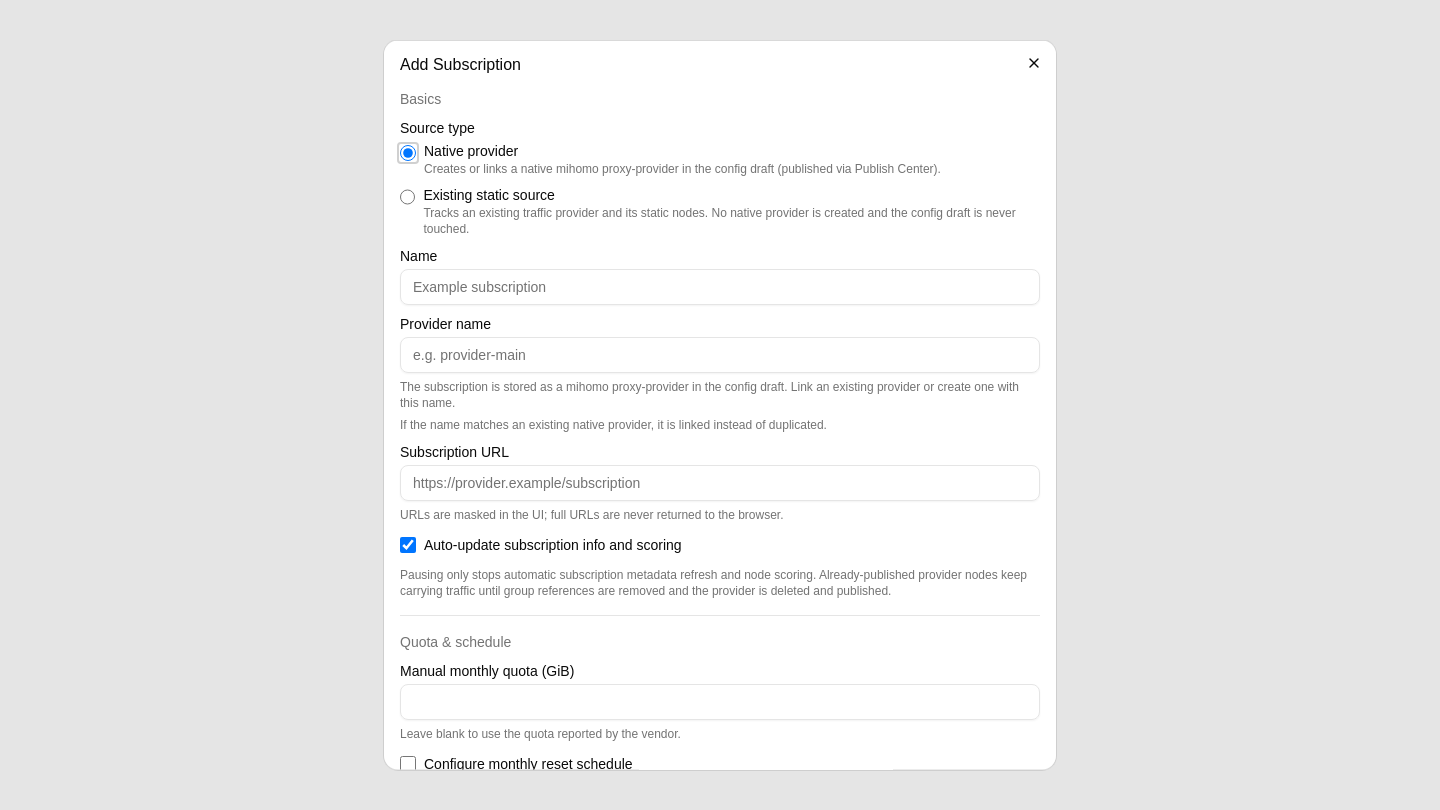
Test: SubscriptionForm · traffic source › requires a traffic provider selection for a traffic source
The width and height of the screenshot is (1440, 810).
Type "Legacy Source" into the field labelled "Name" at (720, 286), box top-left (400, 268), bottom-right (1040, 304)
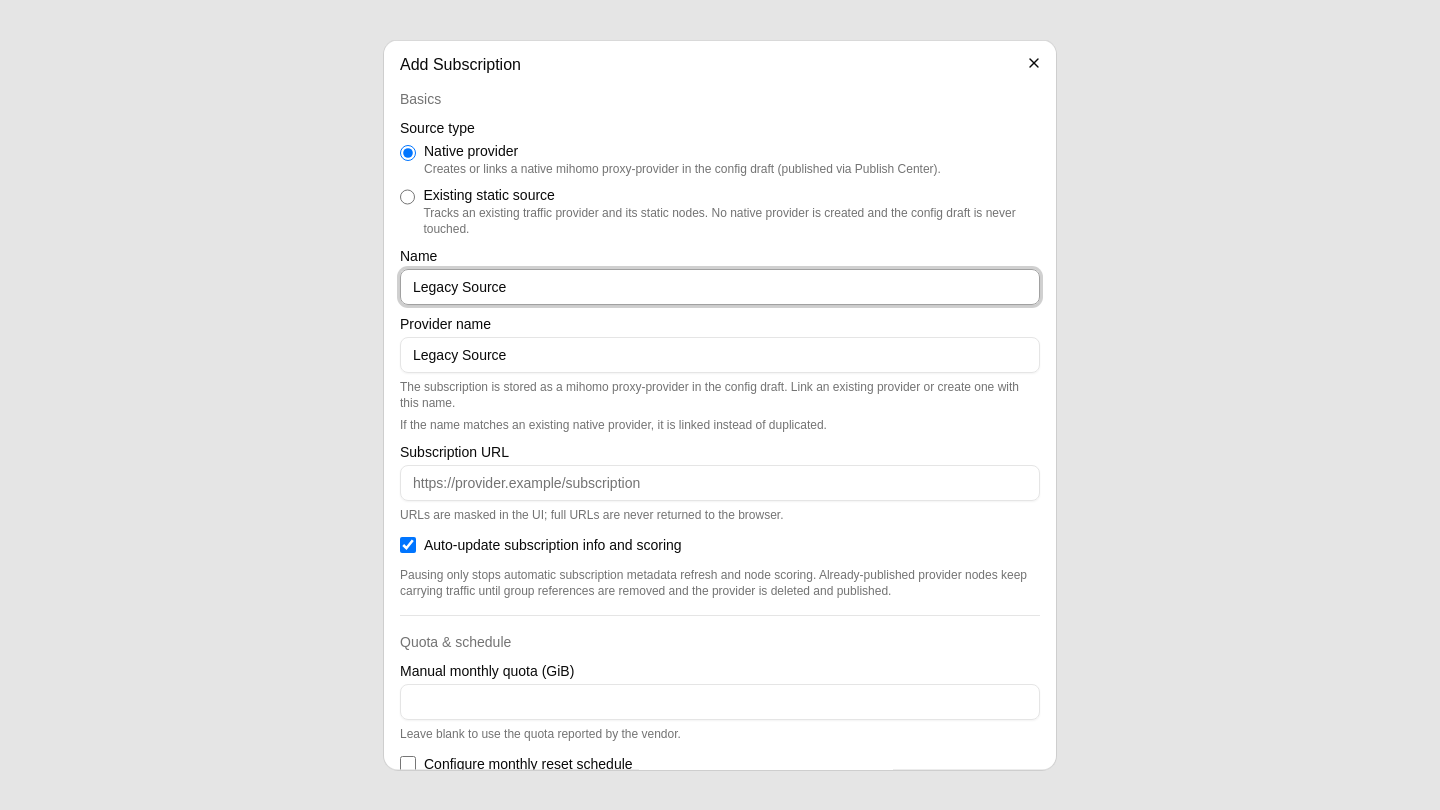
Click the radio button labelled "Existing static source" at (408, 196), box top-left (400, 188), bottom-right (415, 204)
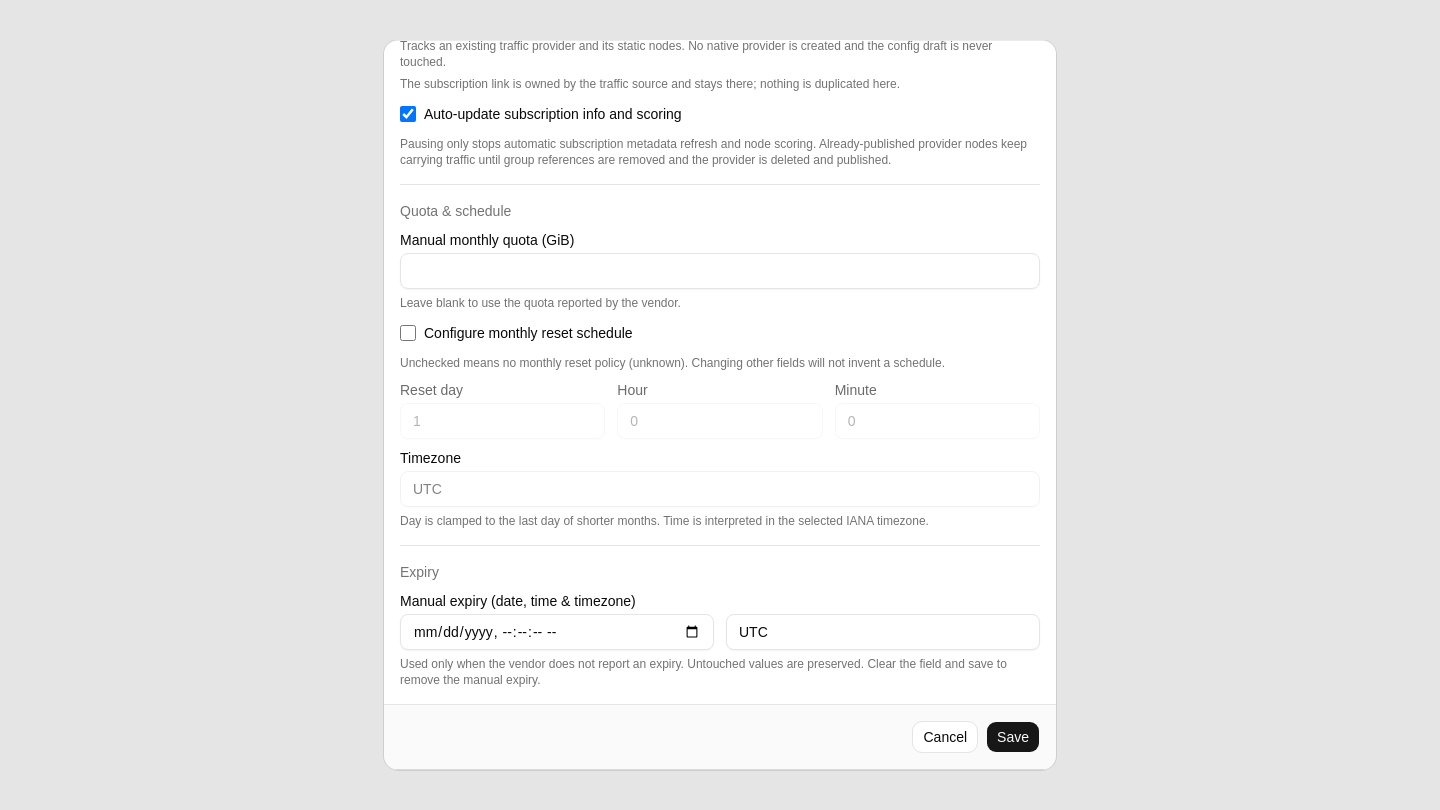
Click the button "Save" at (1013, 738), box top-left (986, 722), bottom-right (1040, 754)
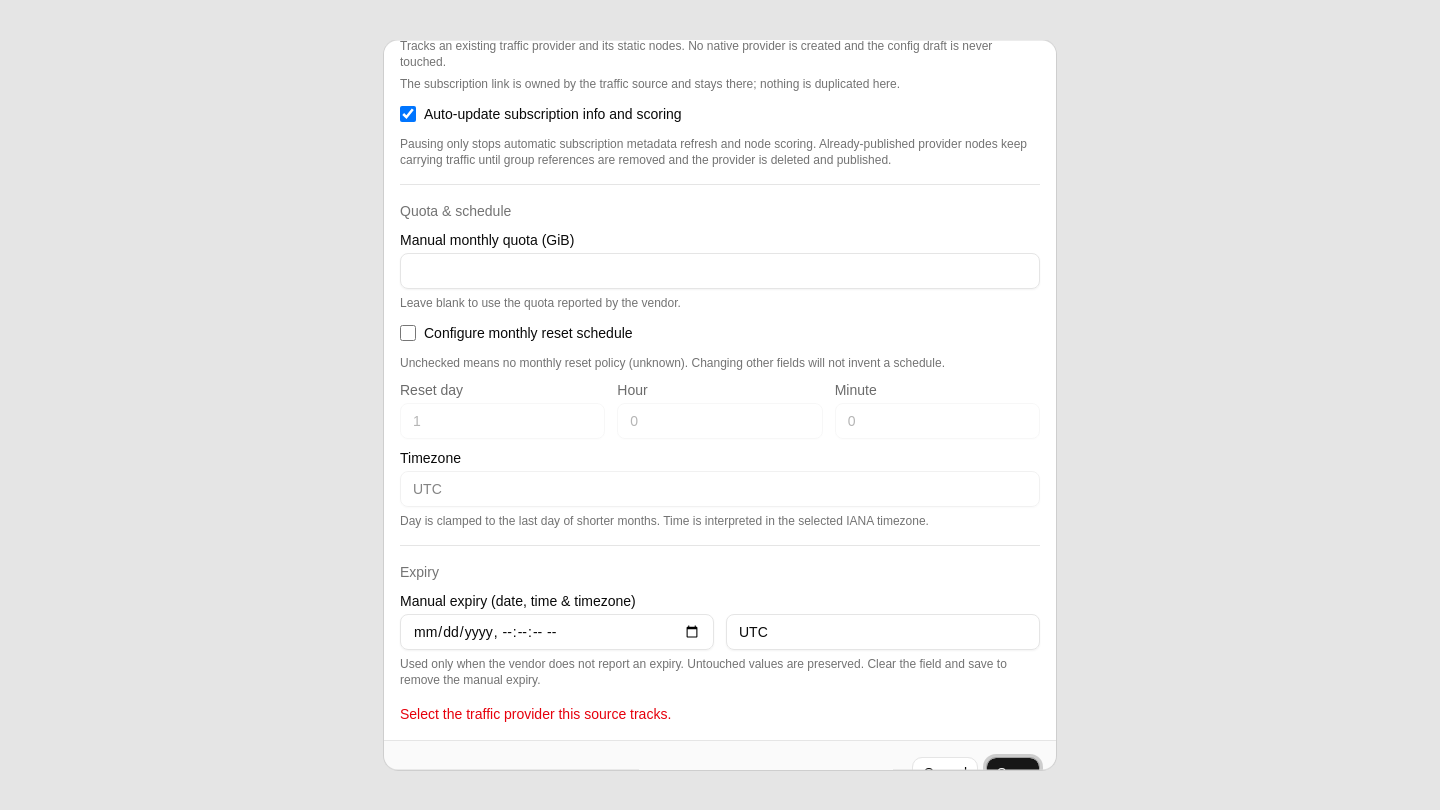
Check: the text "Select the traffic provider this source tracks." is shown, box top-left (400, 706), bottom-right (671, 722)
